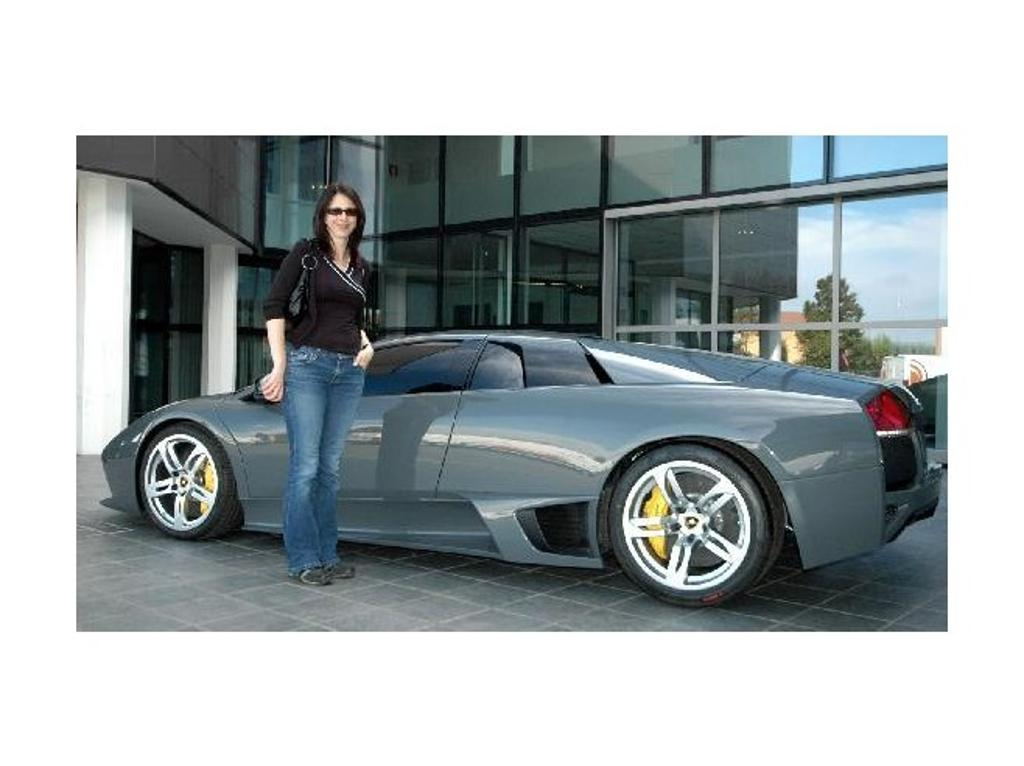face: (326, 192, 358, 236)
